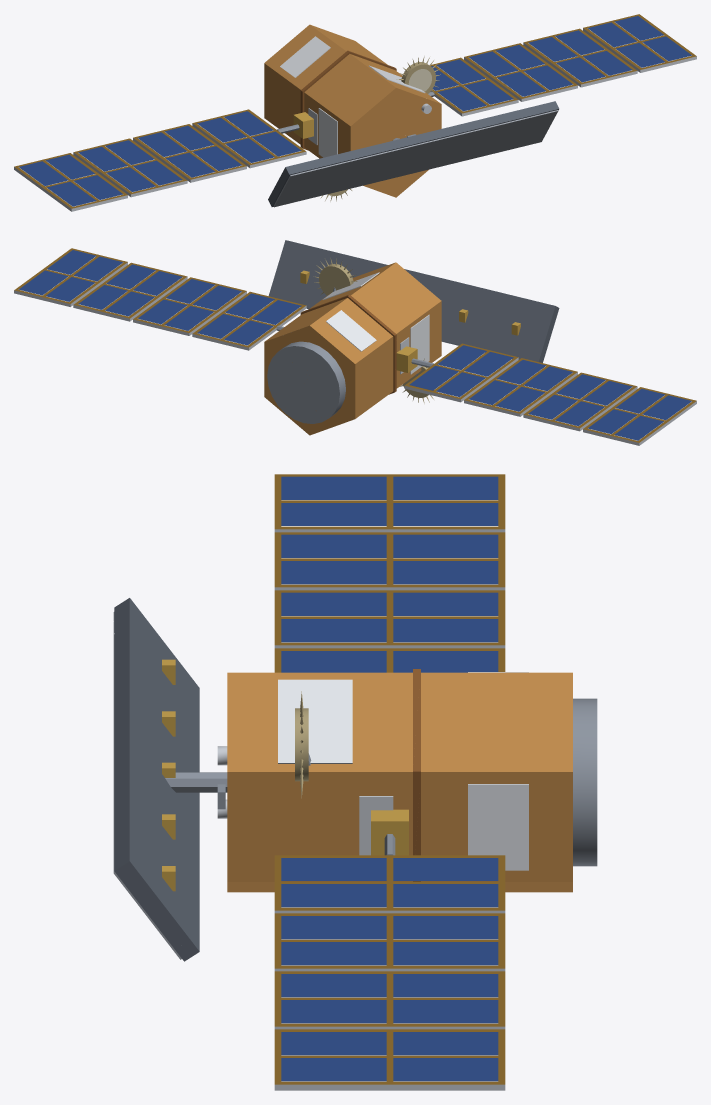
Rendered from kompsat-5.glb.
3 views of the same model, one above another, from view 1: azimuth 30°, elevation 25°; view 2: azimuth 150°, elevation 25°; view 3: azimuth 270°, elevation 25° (orthographic). The views are drawn at different scales.
Parts seen in each view (by area): view 1: body, solar-panel, foil; view 2: body, solar-panel, foil; view 3: solar-panel, body, foil.
Boxes of the visible parts, x1,y1,x2,y2 form: body: (14, 14, 696, 211); solar-panel: (19, 16, 691, 206); foil: (264, 24, 441, 197); body: (14, 240, 696, 445); solar-panel: (19, 250, 691, 440); foil: (264, 262, 520, 435); solar-panel: (281, 476, 498, 1081); body: (113, 474, 597, 1090); foil: (162, 659, 572, 892).
Bounding box in the file's own units: 10.65 × 2.06 × 3.57.
